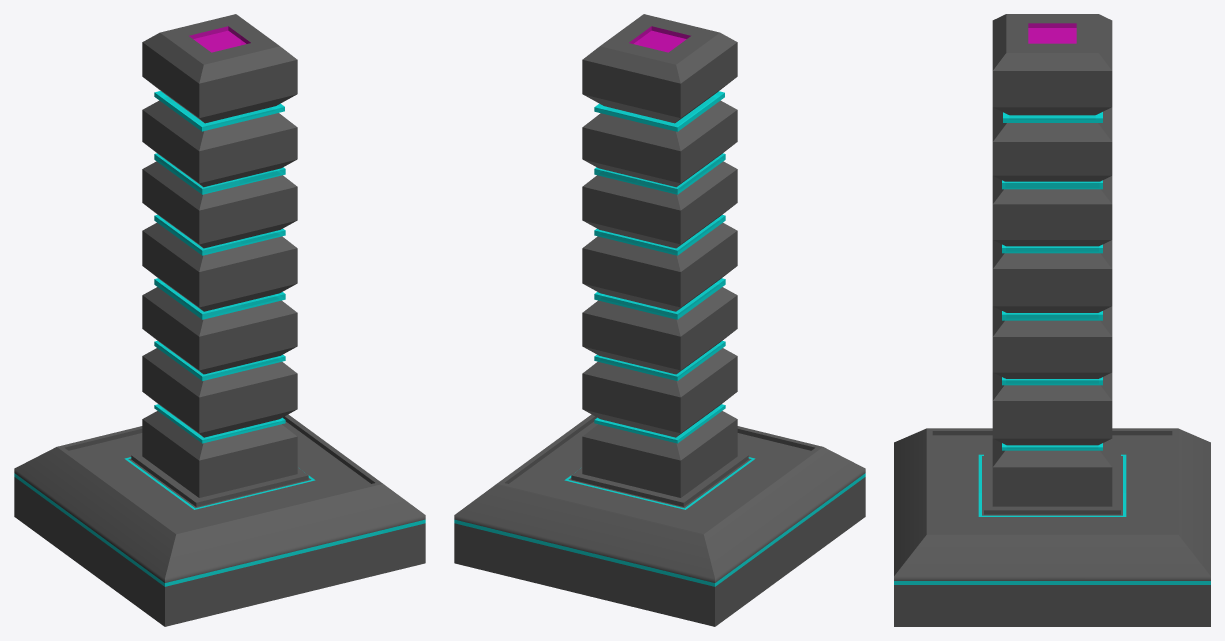
Rendered from b_props.fbx.
3 views of the same model, side by side, from view 1: azimuth 30°, elevation 25°; view 2: azimuth 150°, elevation 25°; view 3: azimuth 270°, elevation 25° (orthographic). The views are drawn at different scales.
Parts seen in each view (by area): view 1: pCube1; view 2: pCube1; view 3: pCube1.
Boxes of the visible parts, x1,y1,x2,y2 form: pCube1: (14,14,425,626); pCube1: (454,14,865,626); pCube1: (894,14,1210,626).
Size of the model in its own units: 0.0438 by 0.0803 by 0.0438.
